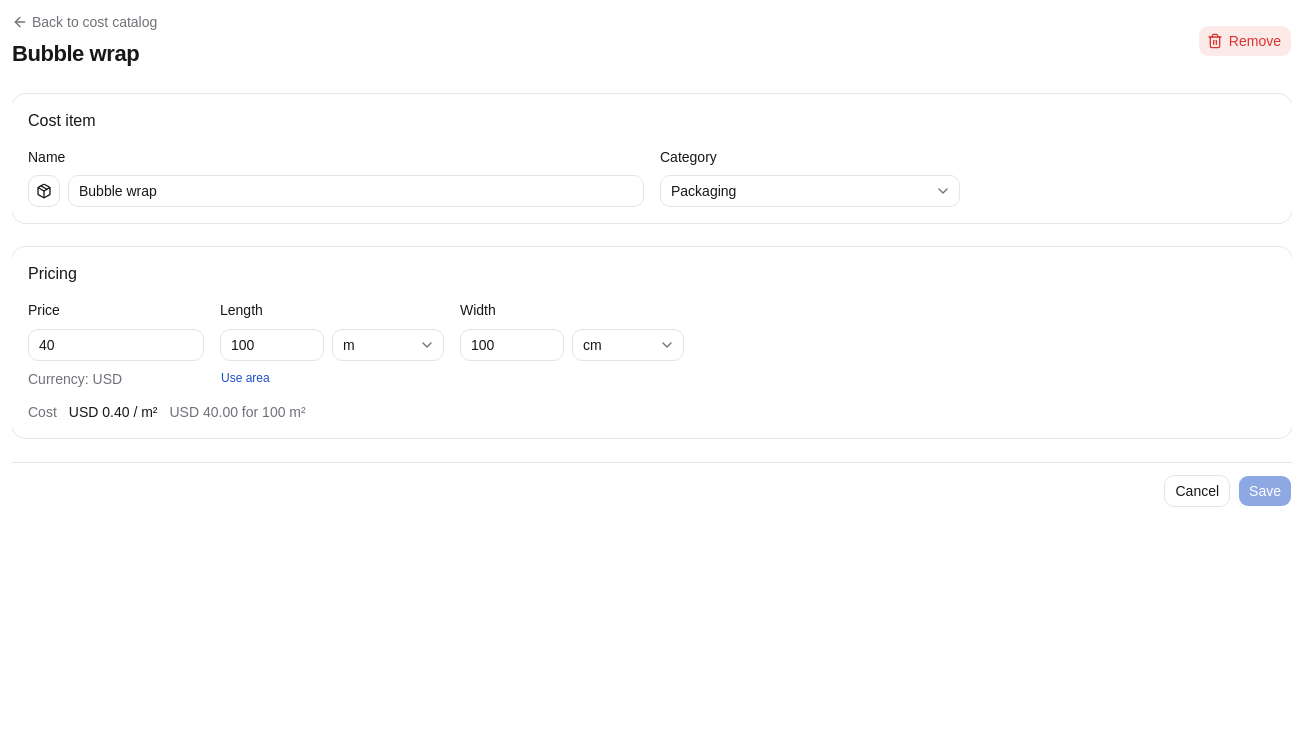
Guided cost editor › edits in place and resets the draft after save
Expected: the heading "Bubble wrap" is shown, [12, 37, 157, 70]
Expected: the button "Save" is disabled, [1238, 474, 1292, 506]
Clear the number field labelled "Length" at (272, 344), box [220, 328, 324, 360]
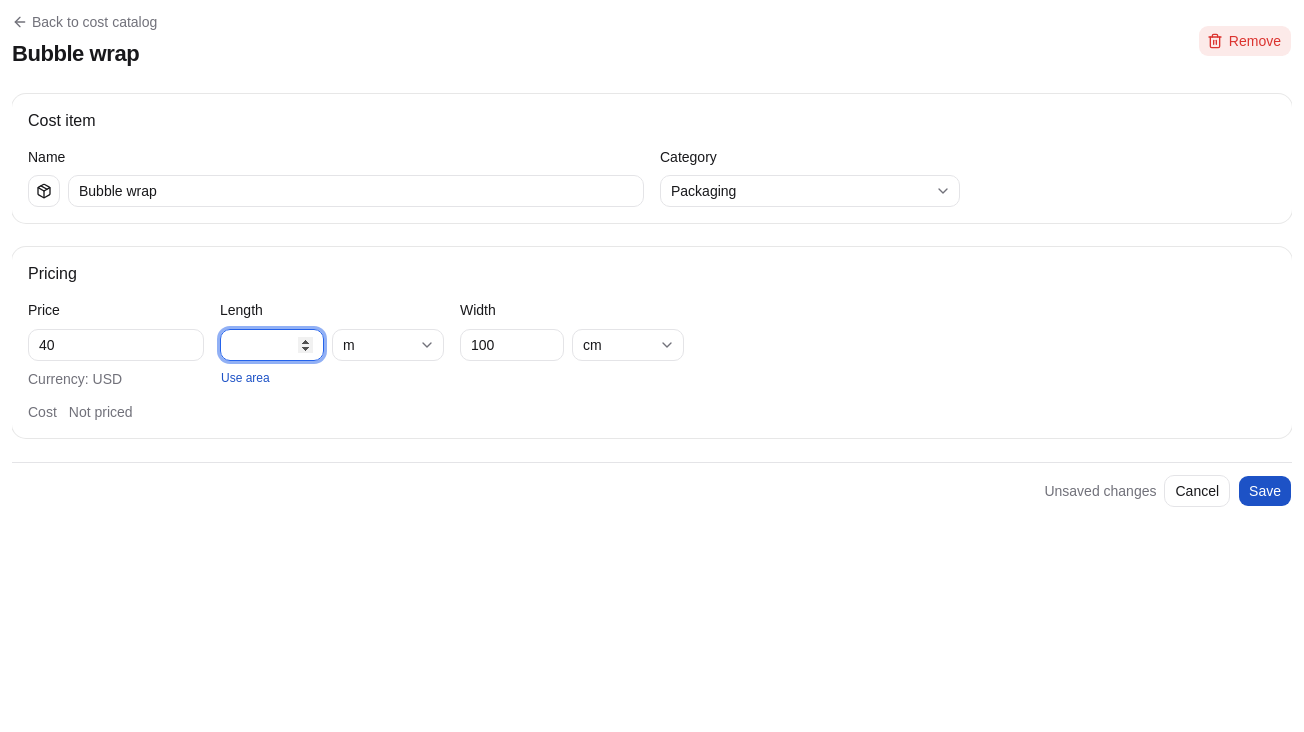
Clear the number field labelled "Width" at (512, 344), box [460, 328, 564, 360]
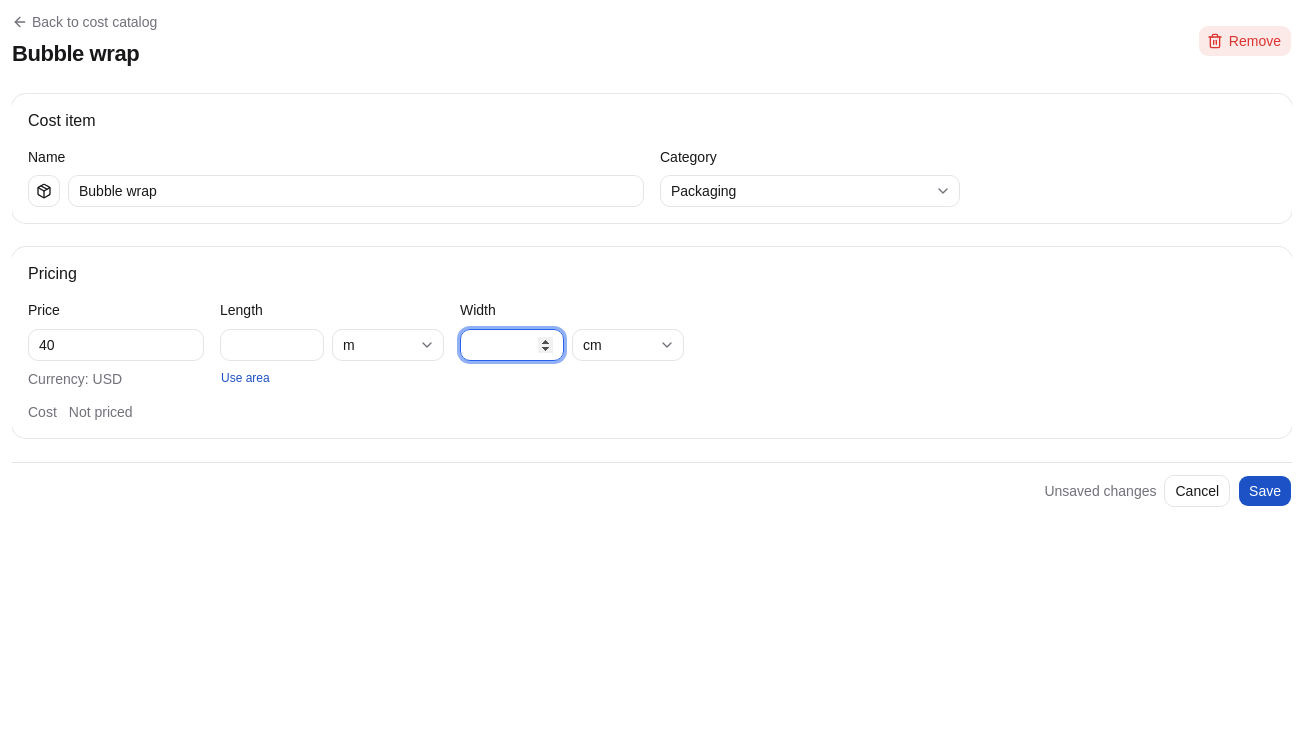
Result: the text "Not priced" is shown at [69, 402, 133, 422]
Type "100" into the number field labelled "Length" at (272, 344), box [220, 328, 324, 360]
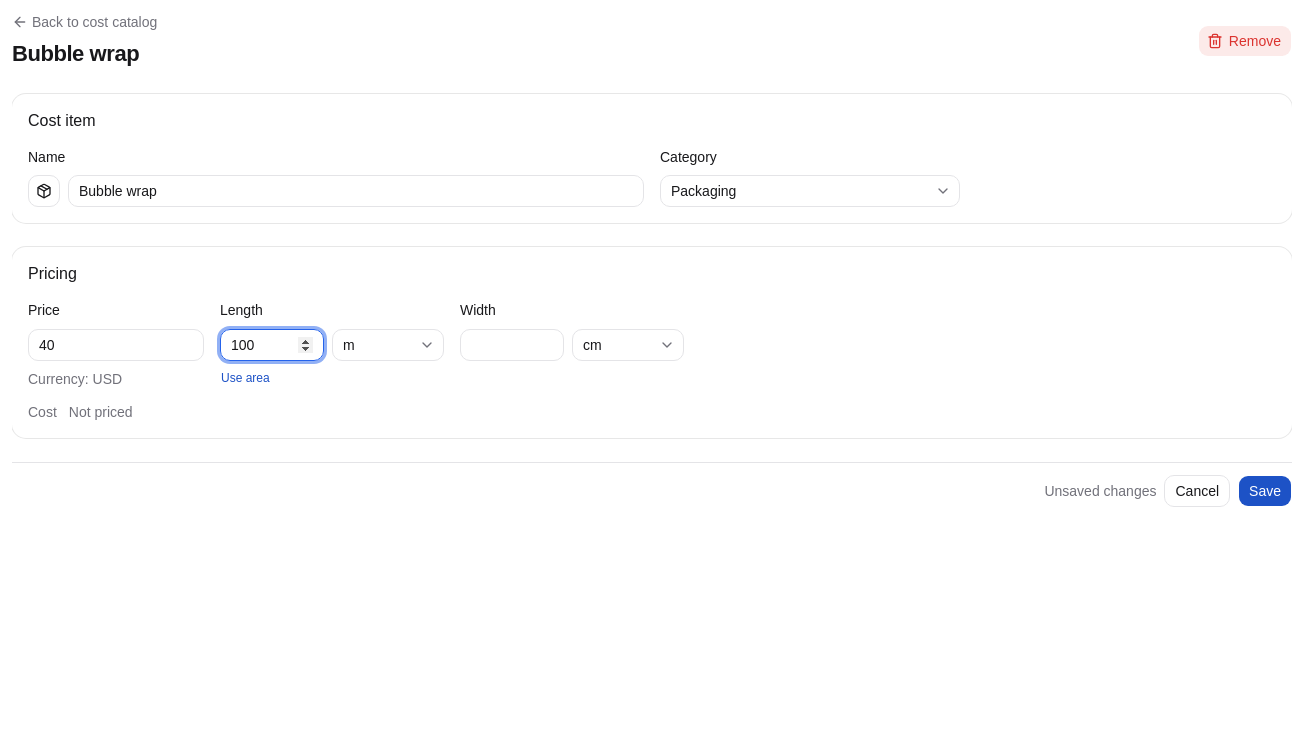
Type "100" into the number field labelled "Width" at (512, 344), box [460, 328, 564, 360]
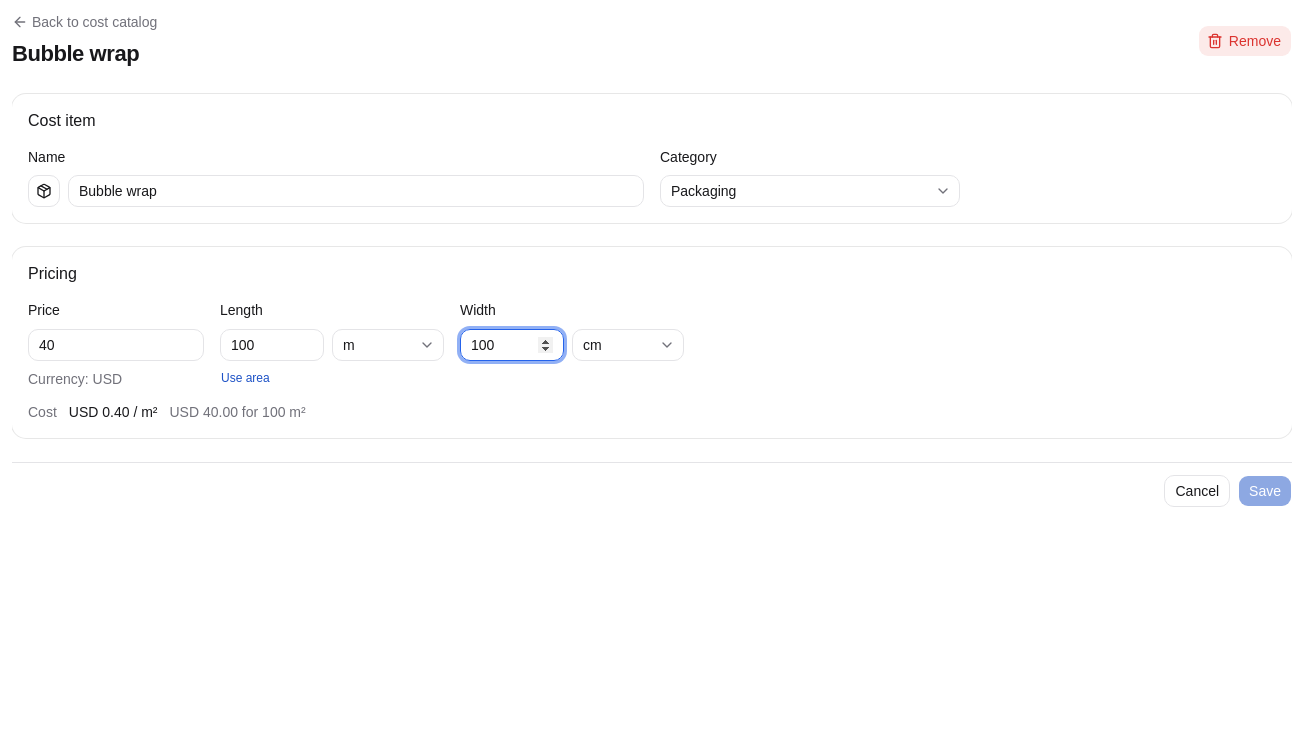
Replace the text in the number field labelled "Price" with "80" at (116, 344), box [28, 328, 204, 360]
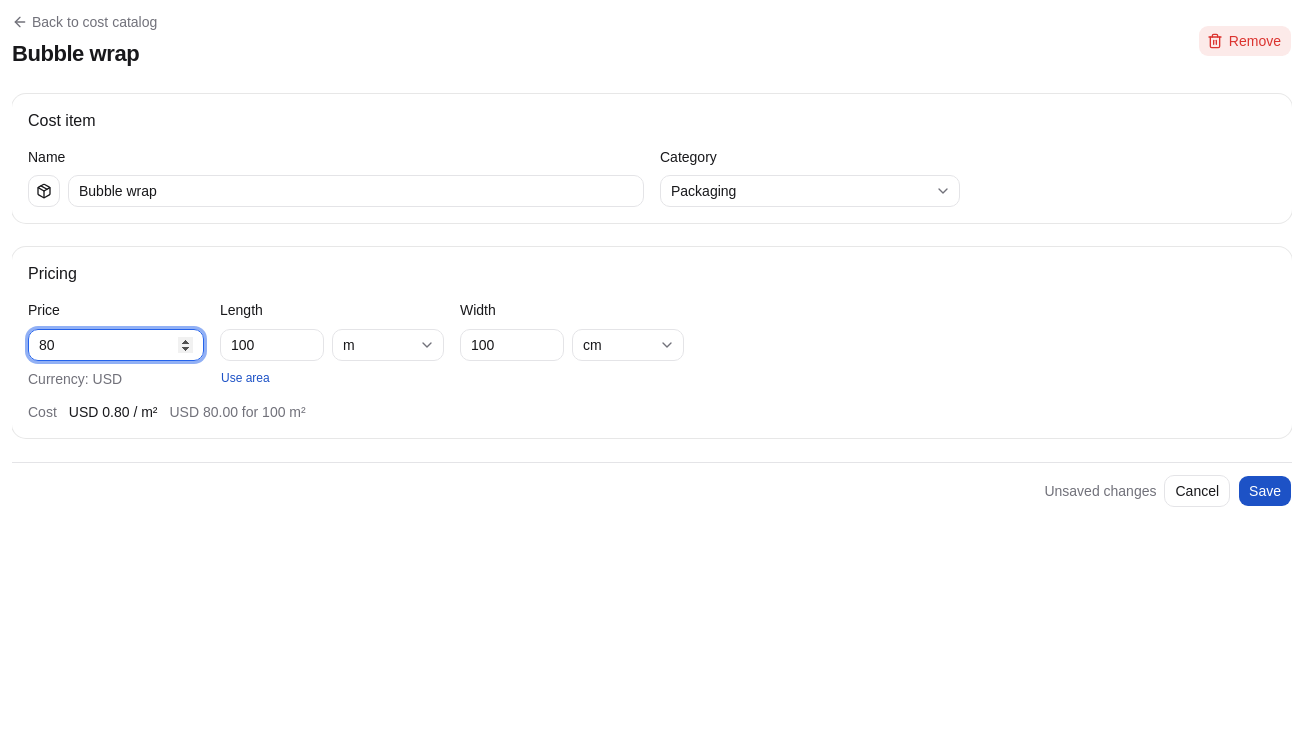
Result: the button "Save" is enabled
Click the button "Save" at (1265, 490), box [1238, 474, 1292, 506]
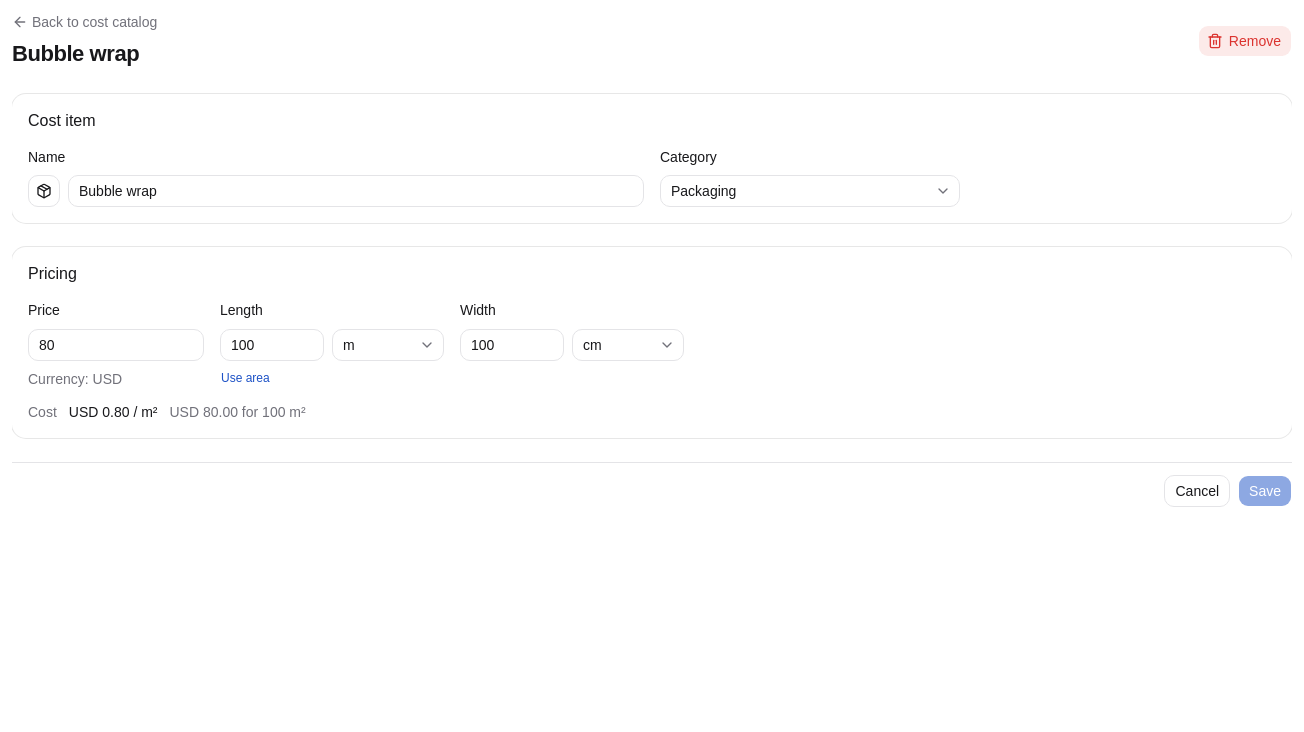
Result: the button "Save" is disabled at [1238, 474, 1292, 506]
Result: the text "Unsaved changes" is gone
